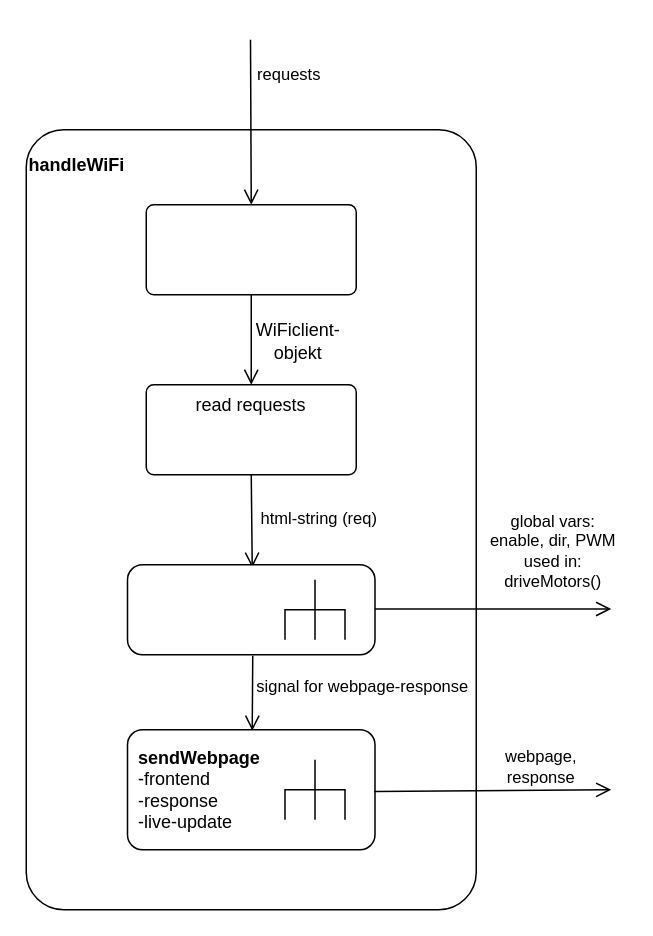
Some shapes in this 653 by 936 pixel diagram are drawn without their labels. The centre of each missing label's shape, as x and y in pixels:
preprocessInput: point 250,609
prÃ¼fen auf verbundenen client: point 250,249
